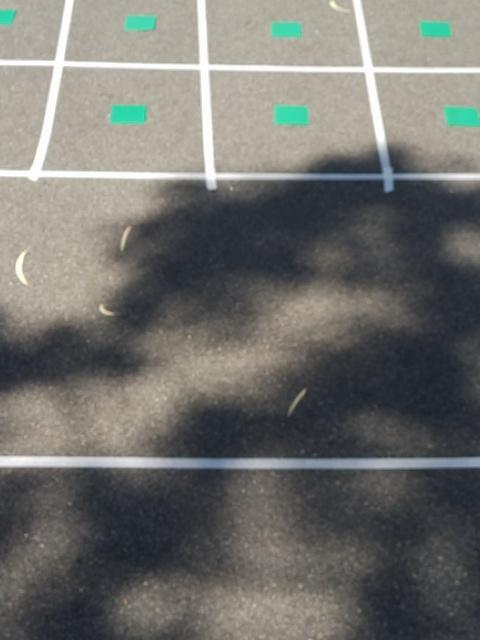weed: (108, 102, 150, 128), (443, 99, 480, 128), (272, 102, 311, 128), (120, 11, 159, 36), (418, 16, 452, 39), (270, 20, 303, 41), (0, 8, 20, 28)
